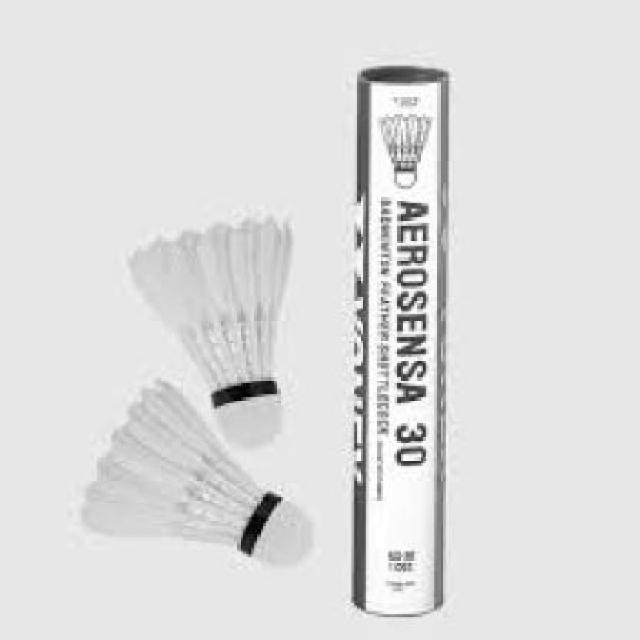Shuttlecock: (82, 377, 320, 572), (129, 211, 288, 454)
